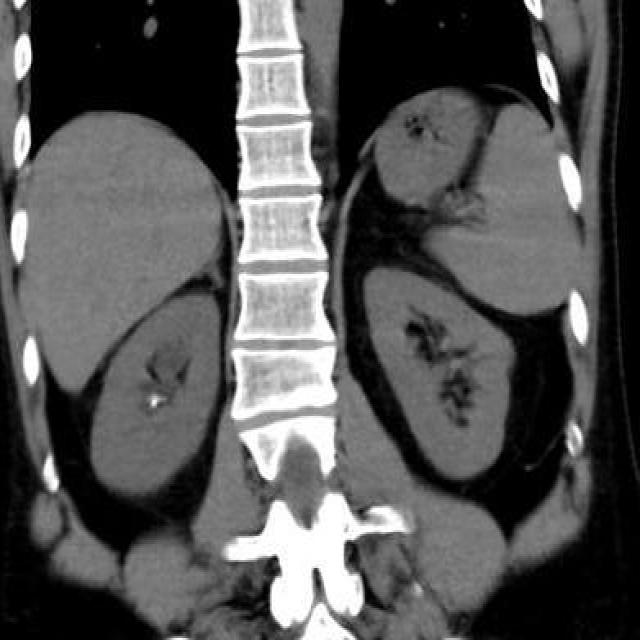Tas_Var: (151, 397, 158, 411)
